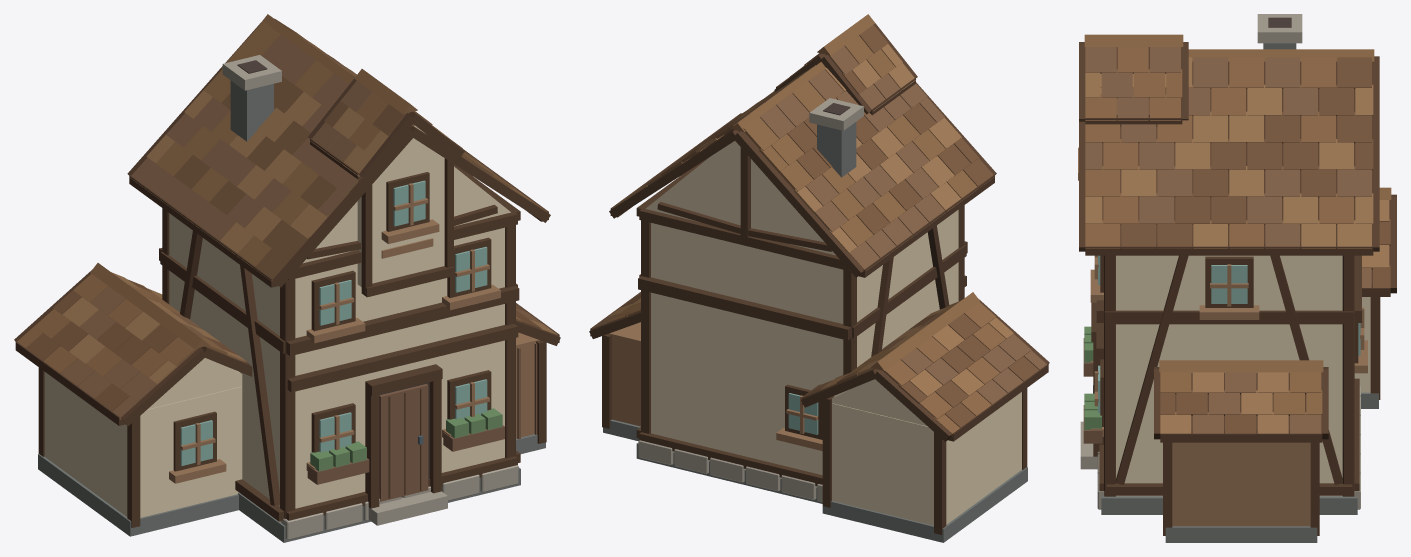
Rendered from ENV_Cottage_B_LOD0.glb.
3 views of the same model, side by side, from view 1: azimuth 30°, elevation 25°; view 2: azimuth 150°, elevation 25°; view 3: azimuth 270°, elevation 25° (orthographic). The views are drawn at different scales.
Visible parts, largest first — view 1: ENV_Cottage_B_LOD0_shell_upper_plasterIvory, ENV_Cottage_B_LOD0_roof_upper_roofTiles, ENV_Cottage_B_LOD0_shell_upper_woodDark, ENV_Cottage_B_LOD0_wing_plasterIvory, ENV_Cottage_B_LOD0_wing_roofTiles, ENV_Cottage_B_LOD0_master_gable_woodDark, ENV_Cottage_B_LOD0_upper_rooms_woodDark, ENV_Cottage_B_LOD0_wing_woodDark, ENV_Cottage_B_LOD0_roof_upper_woodDark, ENV_Cottage_B_LOD0_master_gable_plasterIvory, ENV_Cottage_B_LOD0_master_gable_roofTiles, ENV_Cottage_B_LOD0_shell_upper_wood (+19 smaller); view 2: ENV_Cottage_B_LOD0_shell_upper_plasterIvory, ENV_Cottage_B_LOD0_roof_upper_roofTiles, ENV_Cottage_B_LOD0_wing_plasterIvory, ENV_Cottage_B_LOD0_shell_upper_woodDark, ENV_Cottage_B_LOD0_wing_roofTiles, ENV_Cottage_B_LOD0_wing_woodDark, ENV_Cottage_B_LOD0_roof_upper_woodDark, ENV_Cottage_B_LOD0_upper_rooms_woodDark, ENV_Cottage_B_LOD0_master_gable_roofTiles, ENV_Cottage_B_LOD0_foundation_stone, ENV_Cottage_B_LOD0_wing_stoneDark, ENV_Cottage_B_LOD0_shed_woodLight (+7 smaller); view 3: ENV_Cottage_B_LOD0_roof_upper_roofTiles, ENV_Cottage_B_LOD0_shell_upper_plasterIvory, ENV_Cottage_B_LOD0_shell_upper_woodDark, ENV_Cottage_B_LOD0_shed_roofTiles, ENV_Cottage_B_LOD0_shed_woodLight, ENV_Cottage_B_LOD0_master_gable_roofTiles, ENV_Cottage_B_LOD0_roof_upper_woodDark, ENV_Cottage_B_LOD0_upper_rooms_woodDark, ENV_Cottage_B_LOD0_shed_woodDark, ENV_Cottage_B_LOD0_shed_stoneDark, ENV_Cottage_B_LOD0_wing_woodDark, ENV_Cottage_B_LOD0_master_gable_woodDark (+11 smaller).
Part boxes in pixels (x1,y1,x2,y2): ENV_Cottage_B_LOD0_shell_upper_plasterIvory: (169,166,510,508); ENV_Cottage_B_LOD0_roof_upper_roofTiles: (130,14,548,282); ENV_Cottage_B_LOD0_shell_upper_woodDark: (162,164,520,521); ENV_Cottage_B_LOD0_wing_plasterIvory: (44,358,242,517); ENV_Cottage_B_LOD0_wing_roofTiles: (17,263,249,419); ENV_Cottage_B_LOD0_master_gable_woodDark: (308,78,464,297); ENV_Cottage_B_LOD0_upper_rooms_woodDark: (159,237,519,356); ENV_Cottage_B_LOD0_wing_woodDark: (14,270,252,527); ENV_Cottage_B_LOD0_roof_upper_woodDark: (127,23,550,287); ENV_Cottage_B_LOD0_master_gable_plasterIvory: (357,125,444,286); ENV_Cottage_B_LOD0_master_gable_roofTiles: (310,69,462,176); ENV_Cottage_B_LOD0_shell_upper_wood: (379,384,428,501); ENV_Cottage_B_LOD0_shell_upper_plasterIvory: (645,141,958,475); ENV_Cottage_B_LOD0_roof_upper_roofTiles: (613,62,994,270); ENV_Cottage_B_LOD0_wing_plasterIvory: (832,379,1021,525); ENV_Cottage_B_LOD0_shell_upper_woodDark: (636,147,966,486); ENV_Cottage_B_LOD0_wing_roofTiles: (802,292,1046,436); ENV_Cottage_B_LOD0_wing_woodDark: (801,299,1049,534); ENV_Cottage_B_LOD0_roof_upper_woodDark: (609,82,996,277); ENV_Cottage_B_LOD0_upper_rooms_woodDark: (638,241,967,340); ENV_Cottage_B_LOD0_master_gable_roofTiles: (778,14,915,111); ENV_Cottage_B_LOD0_foundation_stone: (638,440,822,501); ENV_Cottage_B_LOD0_wing_stoneDark: (822,467,1027,542); ENV_Cottage_B_LOD0_shed_woodLight: (608,322,640,426); ENV_Cottage_B_LOD0_roof_upper_roofTiles: (1085,49,1374,248); ENV_Cottage_B_LOD0_shell_upper_plasterIvory: (1116,255,1342,496); ENV_Cottage_B_LOD0_shell_upper_woodDark: (1091,255,1359,496); ENV_Cottage_B_LOD0_shed_roofTiles: (1159,360,1323,433); ENV_Cottage_B_LOD0_shed_woodLight: (1172,442,1310,526); ENV_Cottage_B_LOD0_master_gable_roofTiles: (1084,34,1183,120); ENV_Cottage_B_LOD0_roof_upper_woodDark: (1079,56,1379,255); ENV_Cottage_B_LOD0_upper_rooms_woodDark: (1096,255,1361,324); ENV_Cottage_B_LOD0_shed_woodDark: (1154,367,1328,535); ENV_Cottage_B_LOD0_shed_stoneDark: (1165,526,1317,542); ENV_Cottage_B_LOD0_wing_woodDark: (1362,194,1396,399); ENV_Cottage_B_LOD0_master_gable_woodDark: (1079,42,1188,126).
Bounding box in the file's own units: 7.18 × 6.62 × 4.54.
